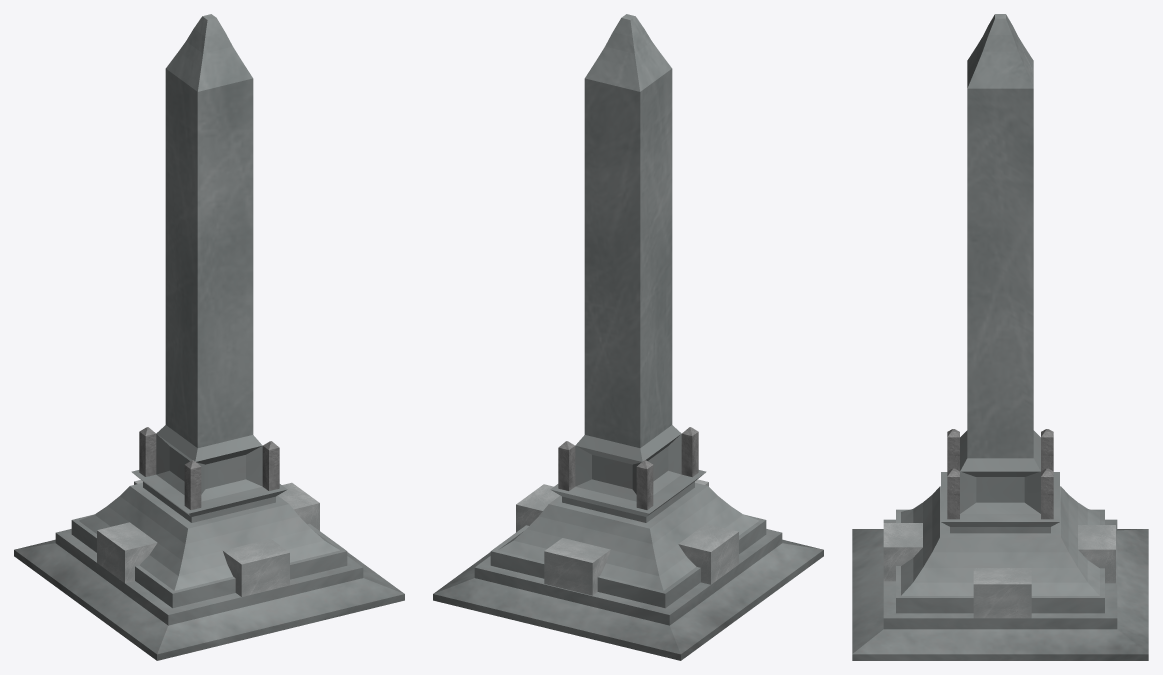
File: obelisco.glb
3 renders of one model, left to right at view 1: azimuth 30°, elevation 25°; view 2: azimuth 150°, elevation 25°; view 3: azimuth 270°, elevation 25°, orthographic. The views are drawn at different scales.
Visible parts, largest first — view 1: obelisco_0; view 2: obelisco_0; view 3: obelisco_0.
Boxes of the visible parts, box(x1,y1,x2,y2) form: obelisco_0: box(14, 14, 404, 660); obelisco_0: box(433, 14, 823, 660); obelisco_0: box(852, 14, 1148, 660).
Bounding box in the file's own units: 32.2 × 69.69 × 32.2.
1 material, 1 textured.
